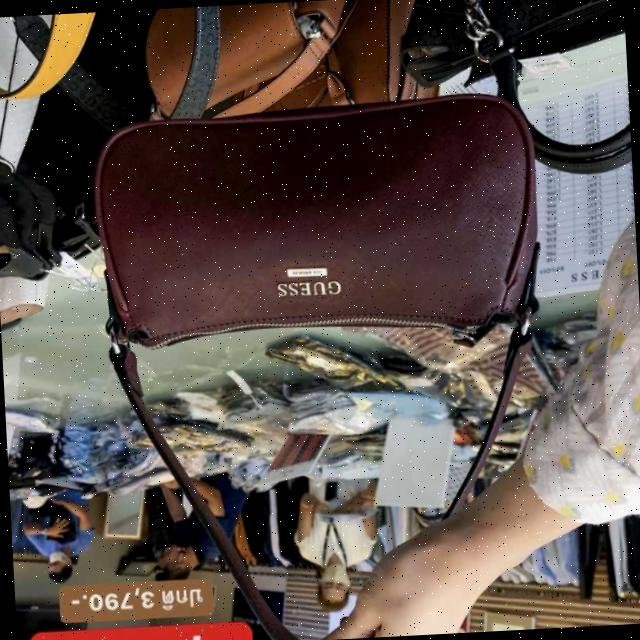Handbag: (81, 87, 548, 372)
